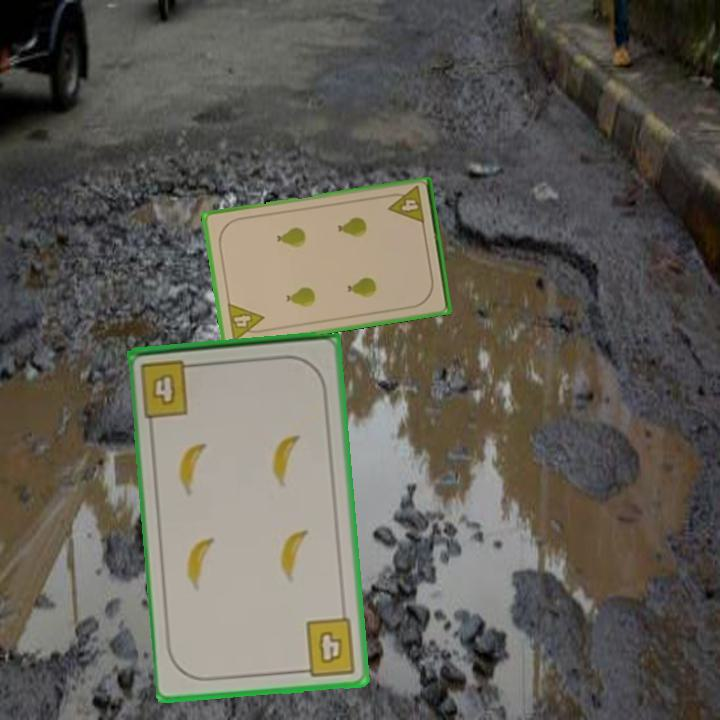4b: (295, 614, 359, 679), (137, 356, 202, 420)
4p: (224, 299, 269, 344), (384, 183, 427, 227)
